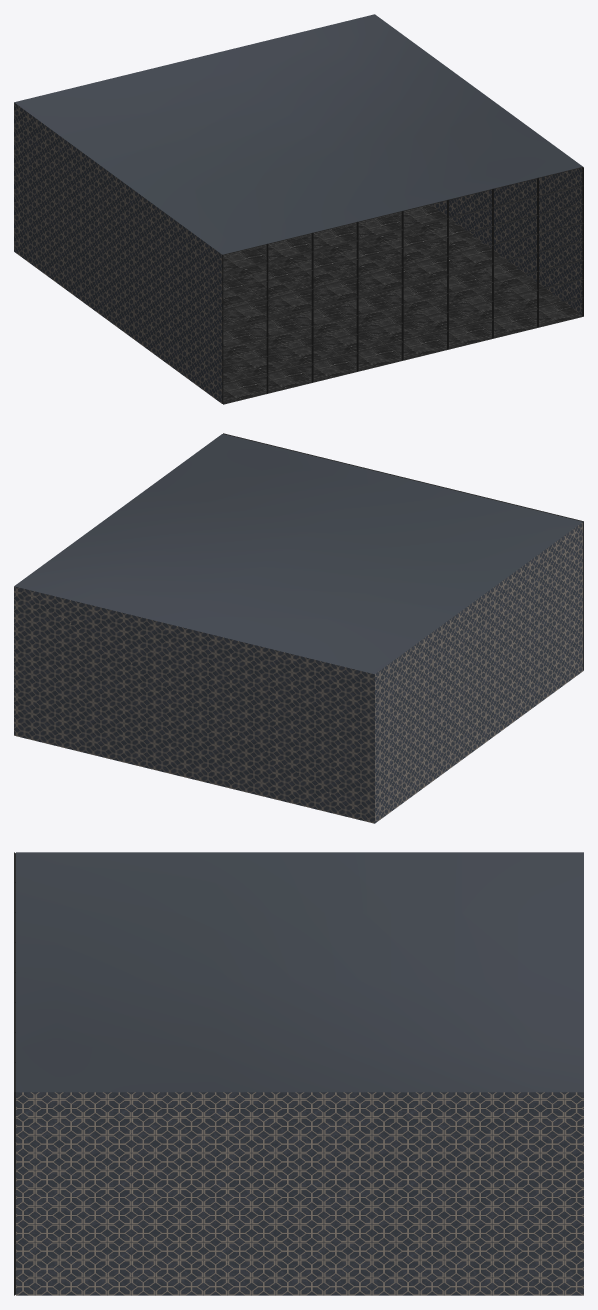
The model's file is Studio2.fbx.
3 renders of one model, top to bottom at view 1: azimuth 30°, elevation 25°; view 2: azimuth 150°, elevation 25°; view 3: azimuth 270°, elevation 25°, orthographic. The views are drawn at different scales.
Parts seen in each view (by area): view 1: Cube, Floor, Windows; view 2: Cube, Windows; view 3: Cube, Windows.
Boxes of the visible parts, left/top/right/bottom form: Cube: left=14, top=14, right=582, bottom=403; Floor: left=222, top=204, right=581, bottom=403; Windows: left=222, top=167, right=583, bottom=404; Cube: left=14, top=434, right=583, bottom=823; Windows: left=223, top=433, right=583, bottom=670; Cube: left=16, top=852, right=583, bottom=1295; Windows: left=14, top=852, right=15, bottom=1295.
Size of the model in its own units: 4998 by 1977 by 5017.
